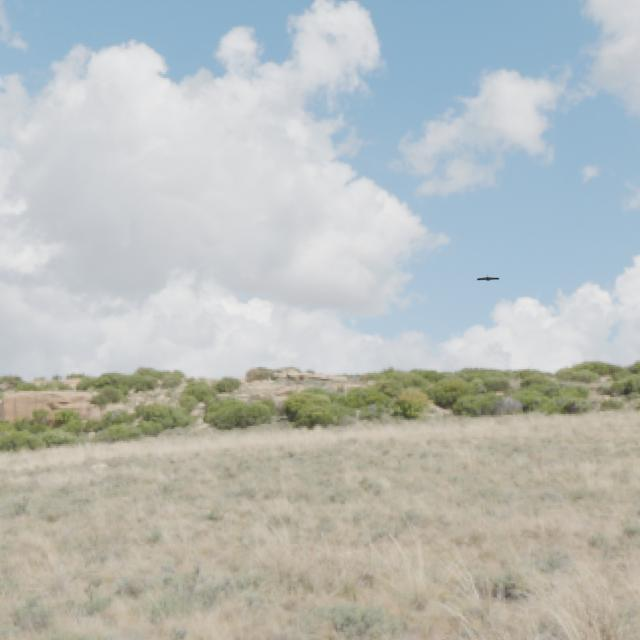Airaplan: (477, 274, 500, 281)
